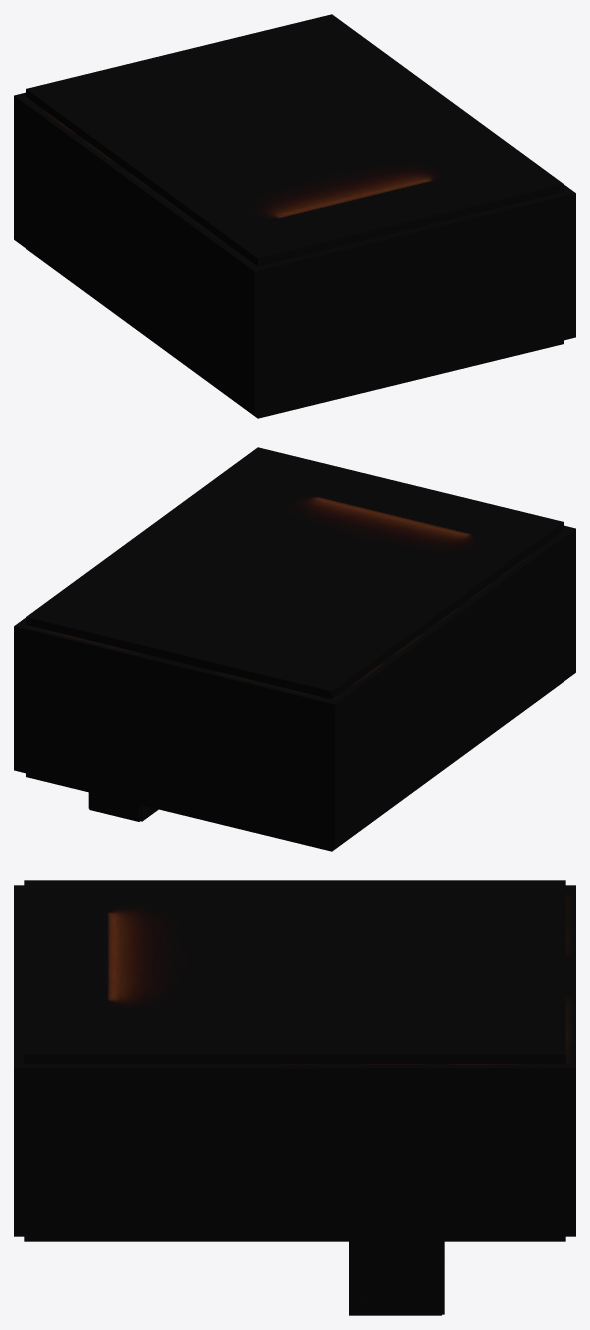
Rendered from guardroom.glb.
3 renders of one model, top to bottom at view 1: azimuth 30°, elevation 25°; view 2: azimuth 150°, elevation 25°; view 3: azimuth 270°, elevation 25°, orthographic. The views are drawn at different scales.
Parts seen in each view (by area): view 1: raum_gross, raum_decke; view 2: raum_gross, raum_decke, treppe; view 3: raum_gross, raum_decke, treppe, raum_klein.
Part boxes in pixels (x1,y1,x2,y2): raum_gross: (14, 92, 575, 418); raum_decke: (26, 14, 563, 266); raum_gross: (14, 525, 575, 851); raum_decke: (26, 447, 563, 699); treppe: (88, 792, 158, 821); raum_gross: (14, 885, 575, 1241); raum_decke: (24, 880, 565, 1063); treppe: (349, 1241, 444, 1315); raum_klein: (349, 1236, 565, 1241).
Size of the model in its own units: 8.4 by 5.7 by 10.9.
19 materials, 19 textured.
